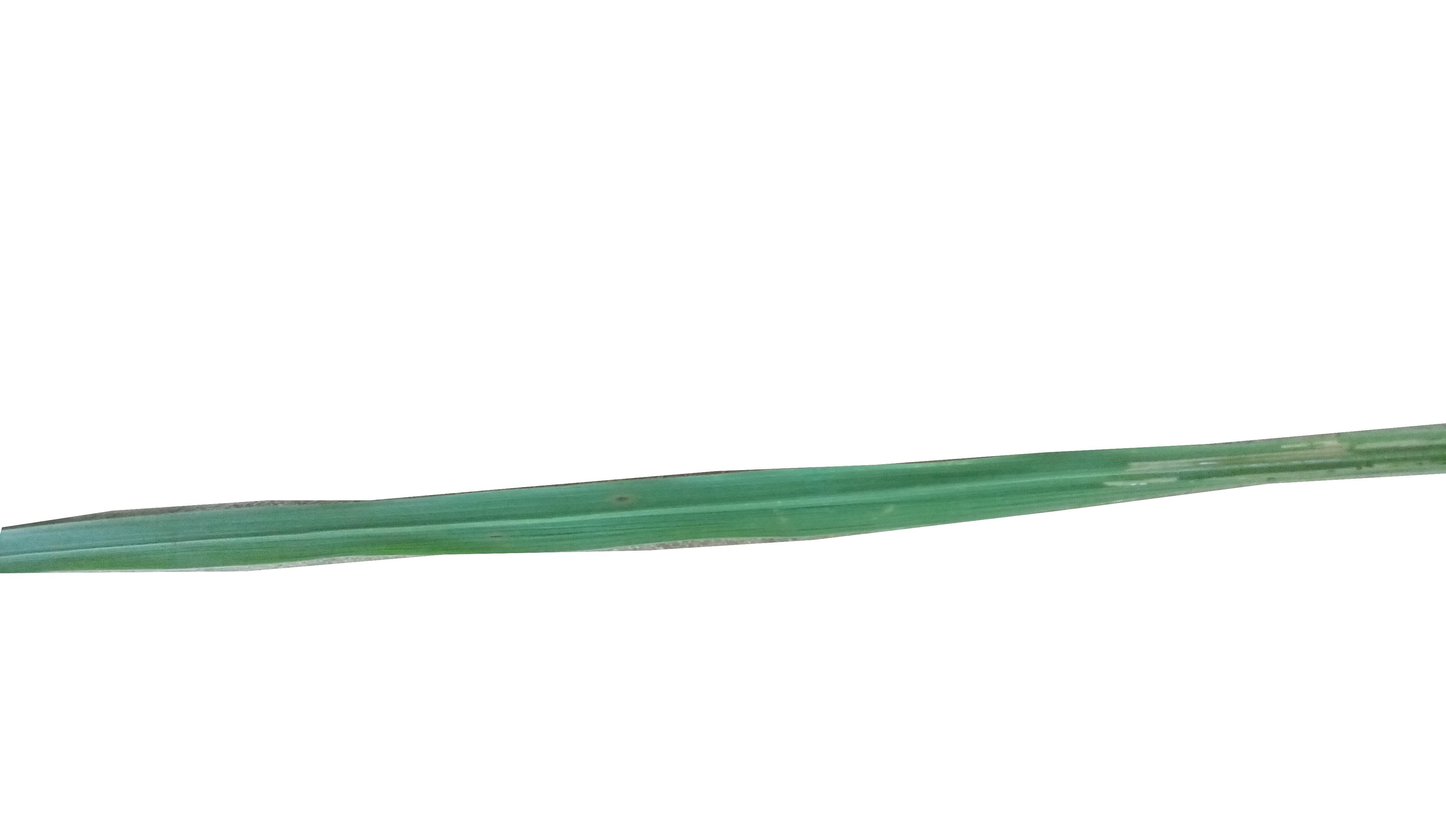Blight: (1353, 436, 1435, 464), (1220, 449, 1307, 473), (1119, 460, 1190, 487)
Brown spot: (612, 487, 633, 515)
